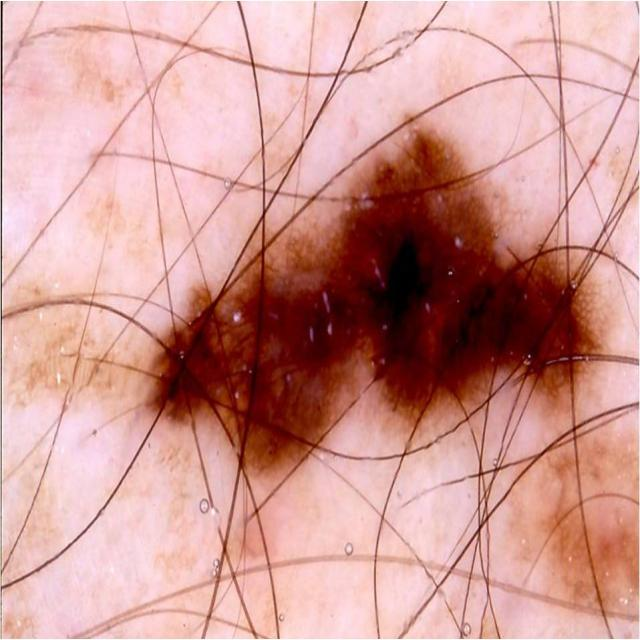Benign: (139, 125, 597, 477)
